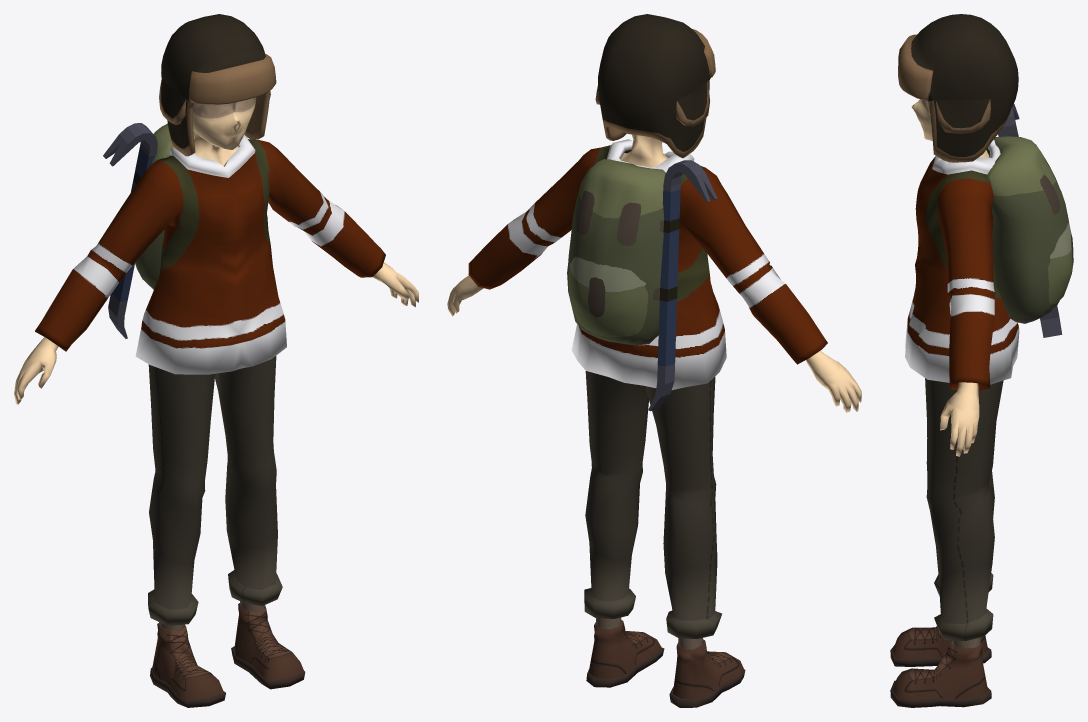
Rendered from new_zach3.glb.
3 renders of one model, left to right at view 1: azimuth 30°, elevation 25°; view 2: azimuth 150°, elevation 25°; view 3: azimuth 270°, elevation 25°, orthographic. The views are drawn at different scales.
Parts seen in each view (by area): view 1: jacket, Pants, hat, shoes, Base.001, crowbar, backpack; view 2: jacket, Pants, backpack, hat, shoes, crowbar, Base.001; view 3: jacket, Pants, hat, backpack, shoes, Base.001, crowbar.
Boxes of the visible parts, x1,y1,x2,y2 form: jacket: (35,135,385,374); Pants: (148,356,282,625); hat: (159,14,276,156); shoes: (150,603,305,707); Base.001: (14,97,418,630); crowbar: (103,123,157,338); backpack: (135,123,194,289); jacket: (468,139,827,390); Pants: (584,371,721,638); backpack: (567,159,665,345); hat: (595,14,715,158); shoes: (586,619,745,707); crowbar: (648,160,717,411); Base.001: (447,134,861,649); jacket: (905,139,1019,390); Pants: (925,378,1003,641); hat: (898,14,1018,162); backpack: (986,136,1073,323); shoes: (890,626,991,707); Base.001: (911,99,989,648); crowbar: (998,103,1062,337).
Size of the model in its own units: 1.13 by 1.76 by 0.4441.
8 materials, 8 textured.
